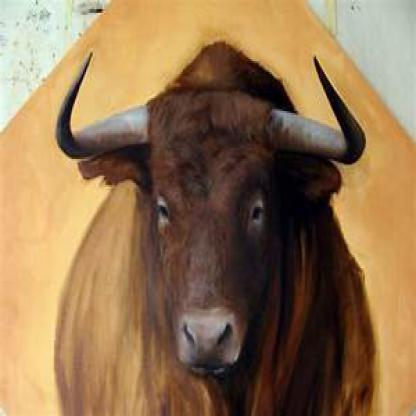cow: (51, 33, 372, 414)
